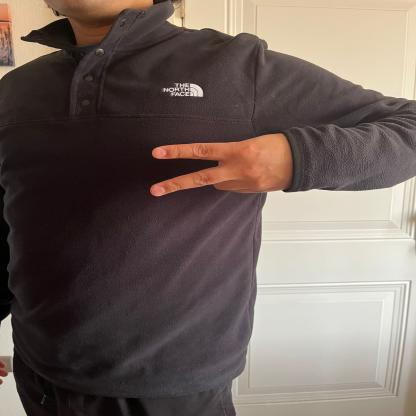H: (147, 129, 304, 202)
